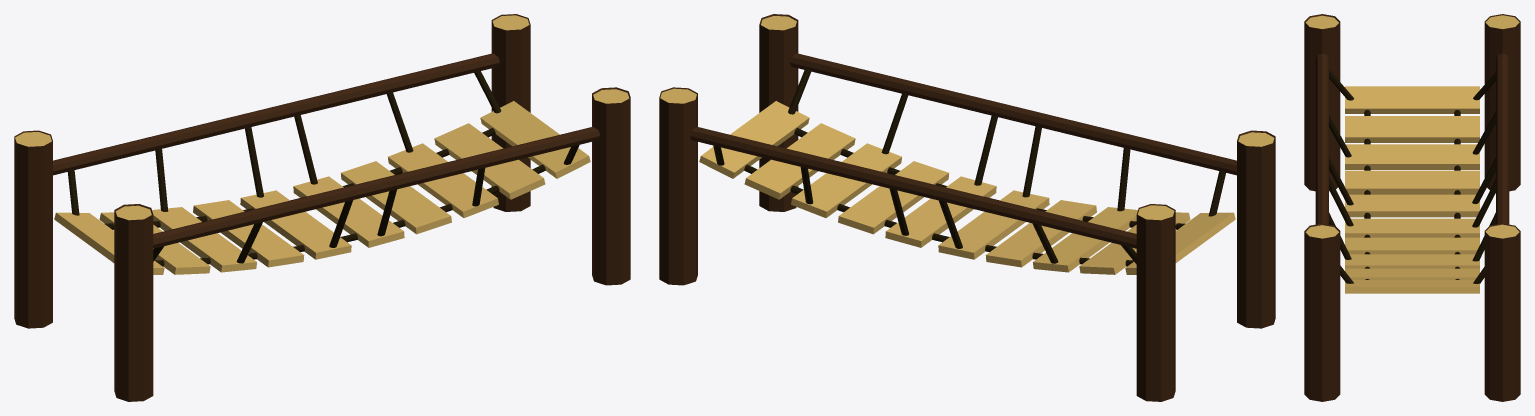
File: Low Poly Bridge.fbx
3 views of the same model, side by side, from view 1: azimuth 30°, elevation 25°; view 2: azimuth 150°, elevation 25°; view 3: azimuth 270°, elevation 25° (orthographic). The views are drawn at different scales.
Visible parts, largest first — view 1: Low_Poly_Bridge; view 2: Low_Poly_Bridge; view 3: Low_Poly_Bridge.
Boxes of the visible parts, x1,y1,x2,y2 form: Low_Poly_Bridge: (14,14,630,401); Low_Poly_Bridge: (659,14,1275,401); Low_Poly_Bridge: (1304,14,1520,401).
Size of the model in its own units: 1180 by 400 by 480.
